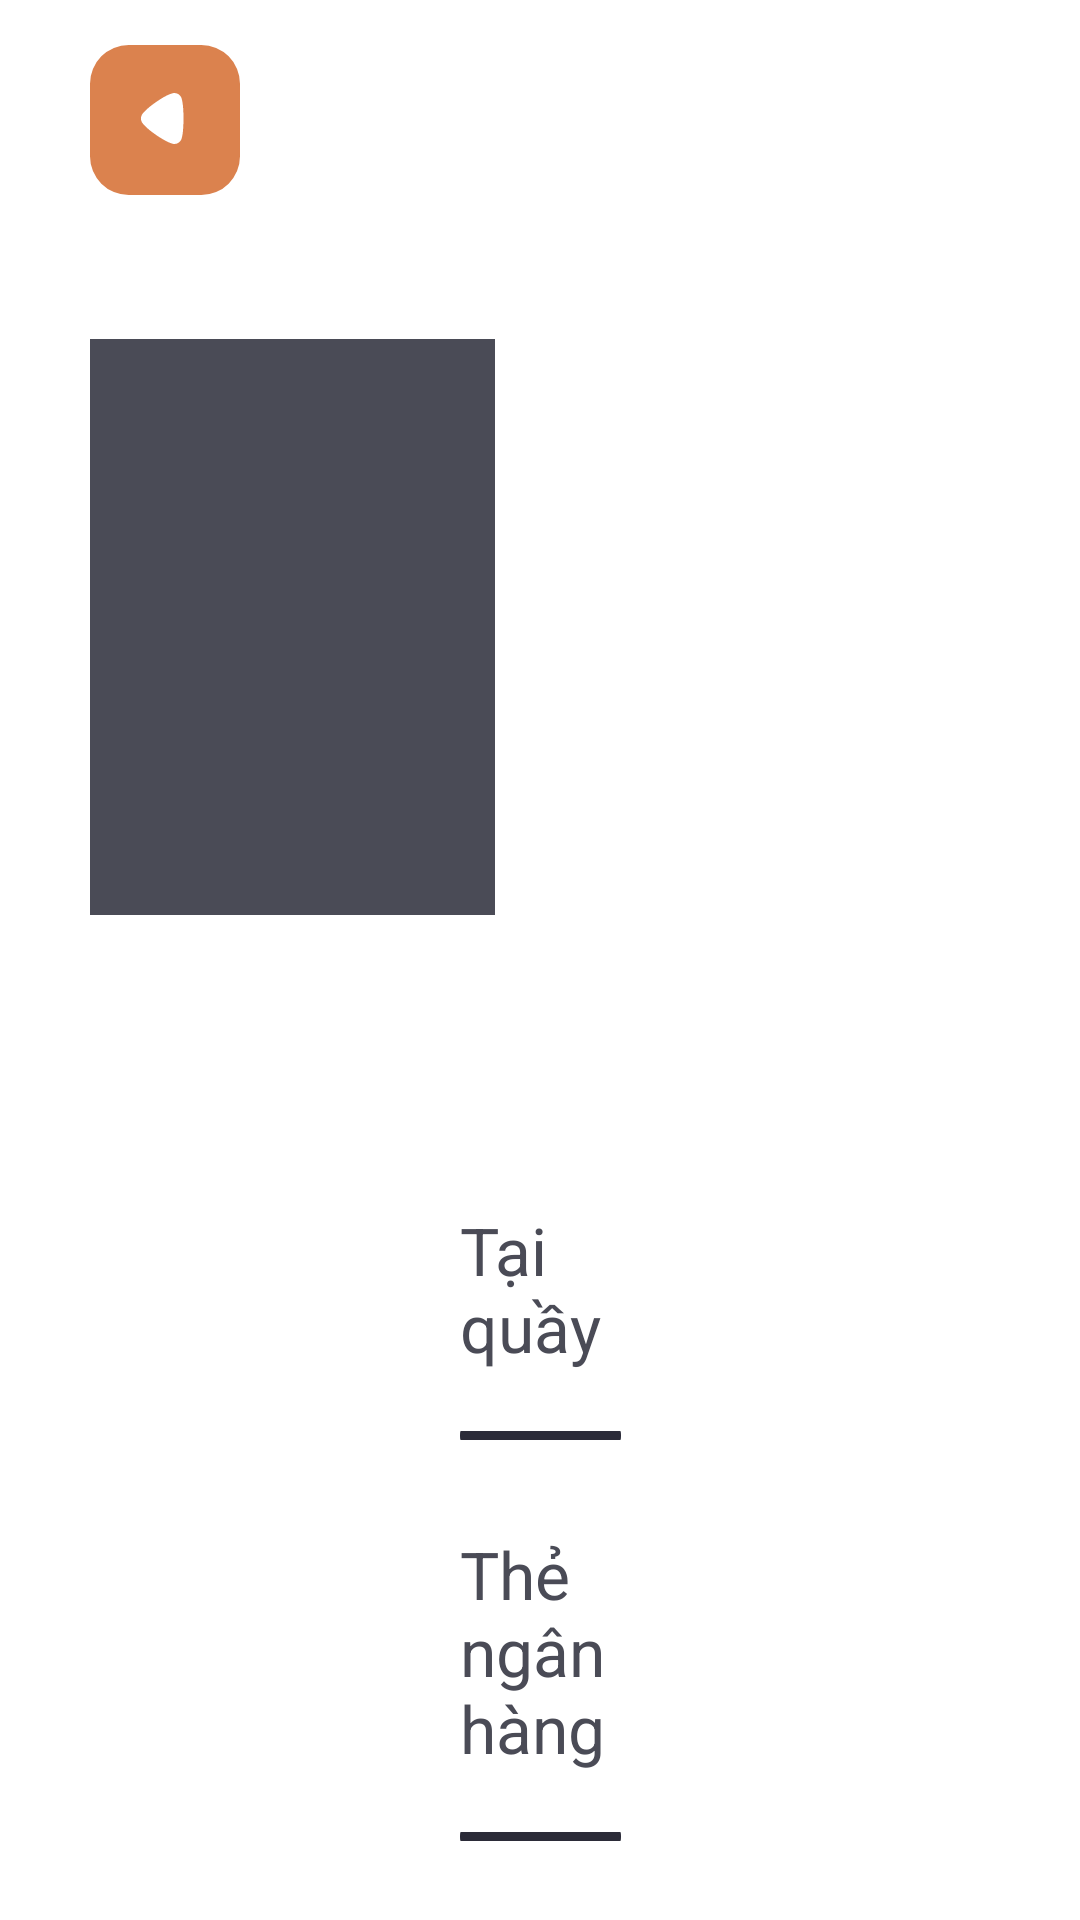

Screen size 1080 × 1920. Icon name, then its center in pixels as (x=x, y=y):
back: (x=165, y=120)
